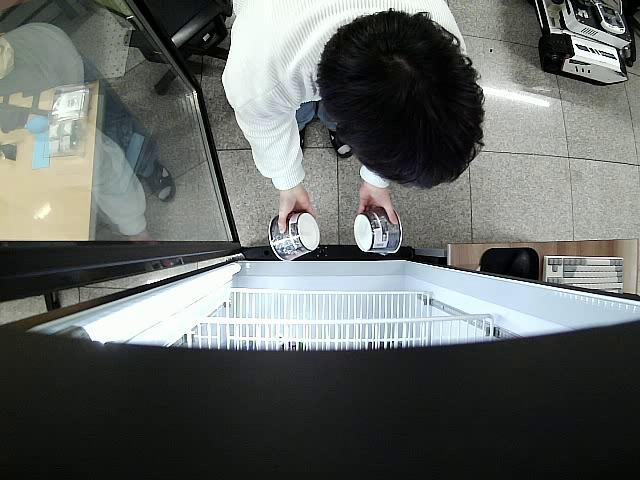07_buldak_L: (268, 213, 322, 264), (353, 206, 402, 256)
